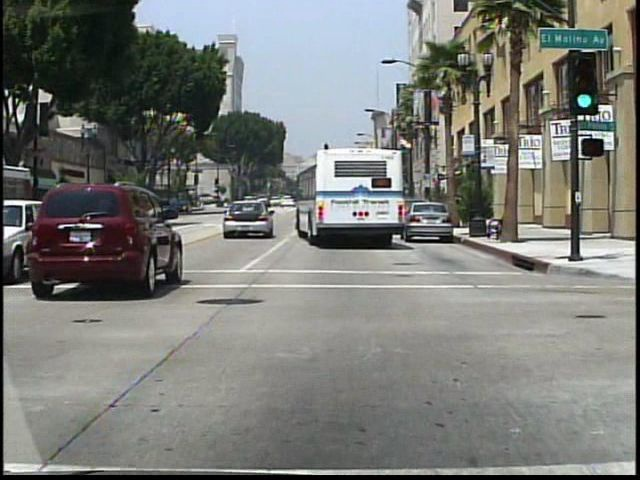person: (454, 190, 468, 227)
